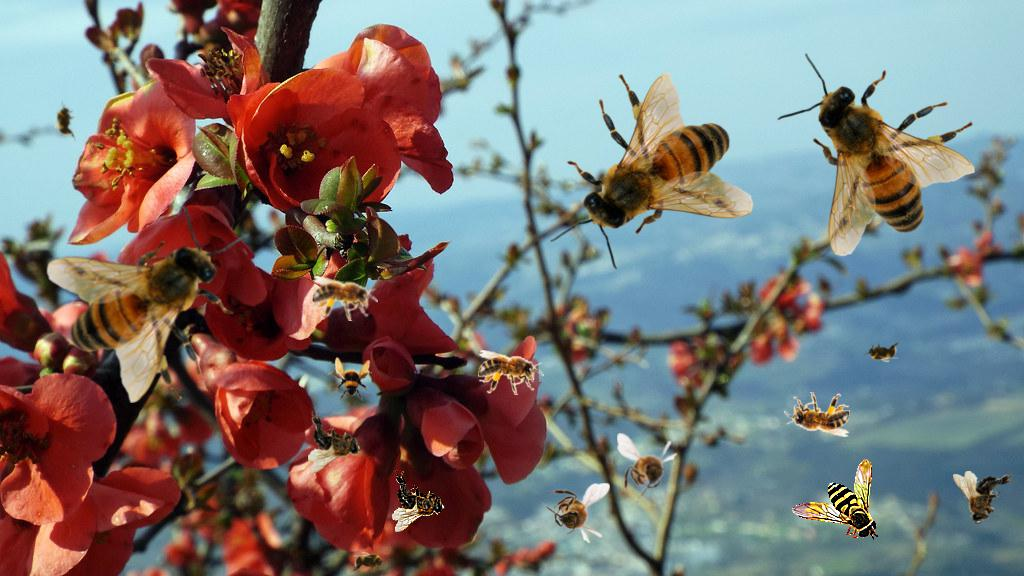Bee: (550, 72, 754, 271), (46, 204, 250, 403), (776, 53, 975, 257), (791, 459, 879, 541), (540, 483, 610, 544), (617, 433, 678, 503), (953, 471, 1015, 524), (308, 411, 361, 473), (392, 470, 445, 532), (784, 392, 850, 437), (312, 276, 378, 321), (478, 350, 544, 395), (328, 357, 372, 401), (349, 551, 389, 573), (862, 341, 902, 363), (54, 101, 76, 141)
